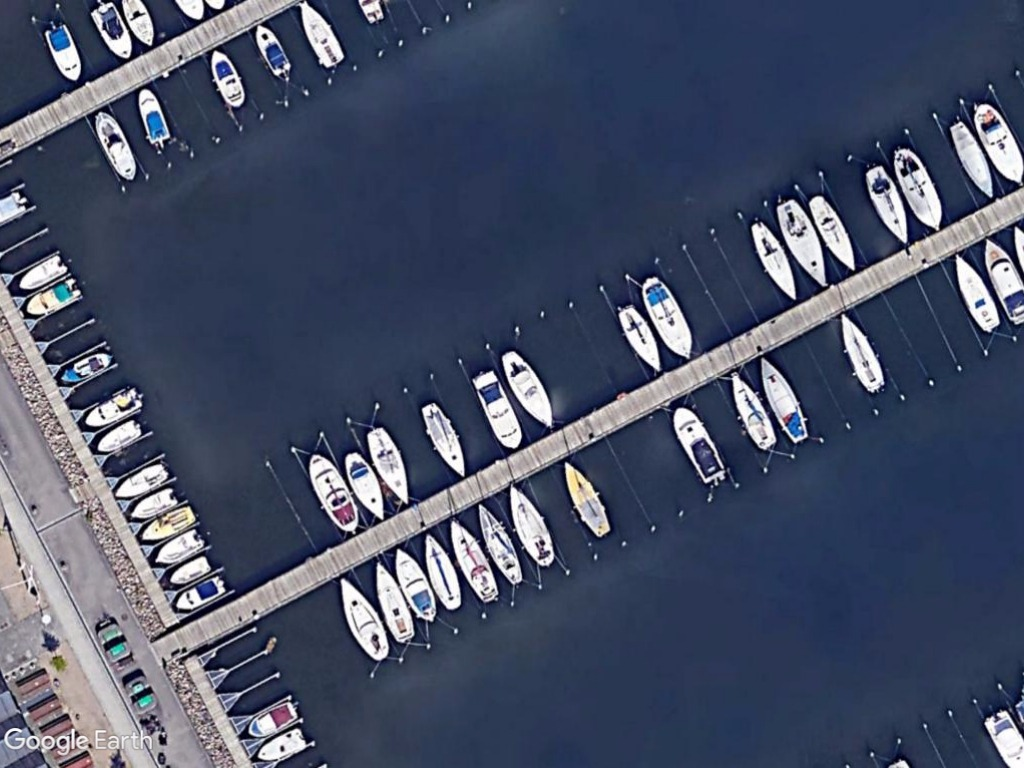boat: (445, 514, 507, 612), (336, 569, 397, 668), (641, 269, 701, 369), (755, 348, 813, 450), (720, 367, 782, 462), (774, 194, 832, 294), (497, 344, 559, 437), (889, 142, 950, 236), (302, 447, 364, 538), (833, 302, 891, 399), (670, 400, 731, 492), (465, 365, 525, 456), (415, 394, 474, 483), (360, 417, 417, 509), (471, 499, 527, 592), (506, 480, 560, 572), (560, 457, 617, 544), (749, 215, 804, 305), (805, 190, 862, 276), (971, 100, 1024, 192), (952, 249, 1007, 337), (368, 556, 421, 647), (858, 160, 914, 246), (387, 542, 444, 626), (946, 116, 1001, 203), (612, 296, 668, 380), (977, 234, 1024, 330), (89, 105, 143, 185), (338, 445, 391, 525), (289, 0, 346, 73), (422, 527, 467, 618), (133, 498, 202, 550), (79, 379, 146, 432), (22, 269, 84, 321), (87, 0, 138, 62), (109, 457, 174, 505), (131, 82, 176, 151), (250, 16, 296, 83), (253, 714, 311, 766), (207, 44, 250, 114), (11, 250, 71, 299), (53, 344, 118, 389), (242, 695, 300, 744), (40, 22, 86, 83), (169, 570, 229, 616), (149, 523, 207, 570), (87, 411, 144, 454), (124, 481, 182, 523), (164, 548, 216, 589)
